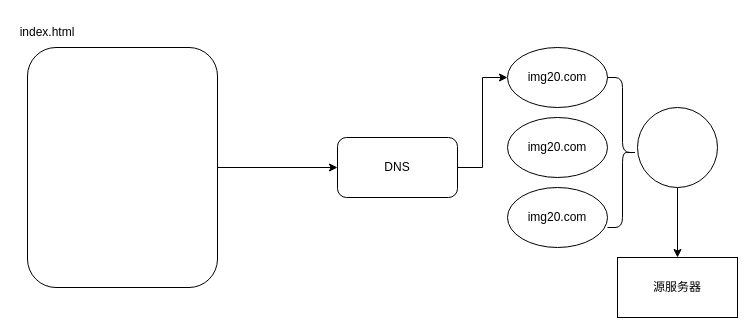
The diagram is 755 pixels wide and 335 high, and some of its shapes have lost their labels. Here are the shapes that lost their labels. From the top down, the box of each, then its label:
(26, 46, 218, 288): <img src="img20.com">
(636, 106, 718, 188): 服务
